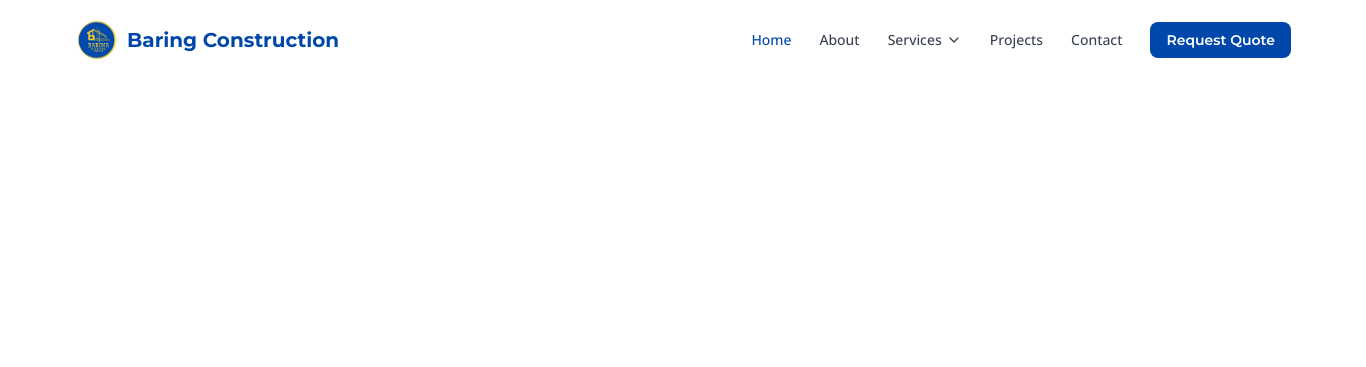
Test: Navbar › Dropdown › closes dropdown on outside click
Step 1. Click the button "Services" → [925, 40], box [876,22,974,58]
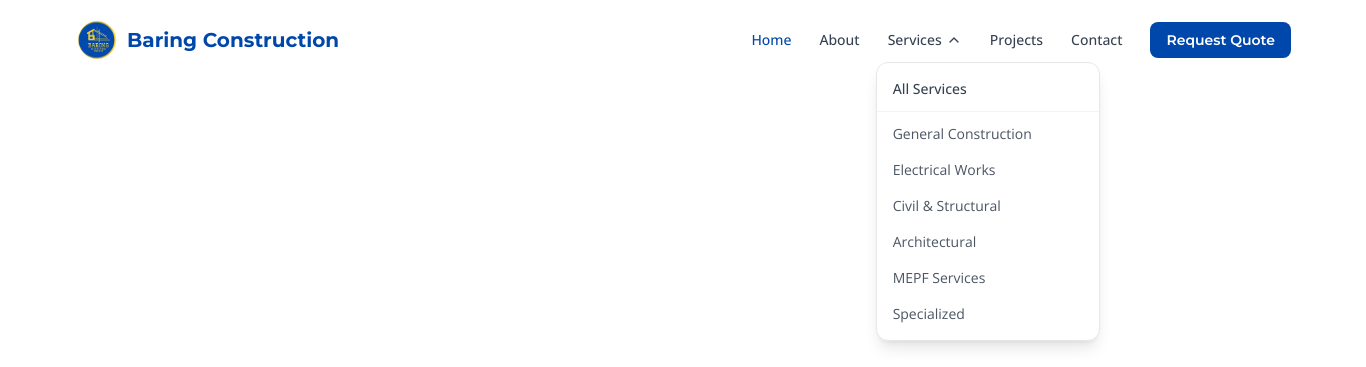
Check: the menu is shown, box [876,62,1100,341]
Step 2. Press the mouse on the element that starts with "Baring Construction" → [683, 40], box [0,0,1365,80]
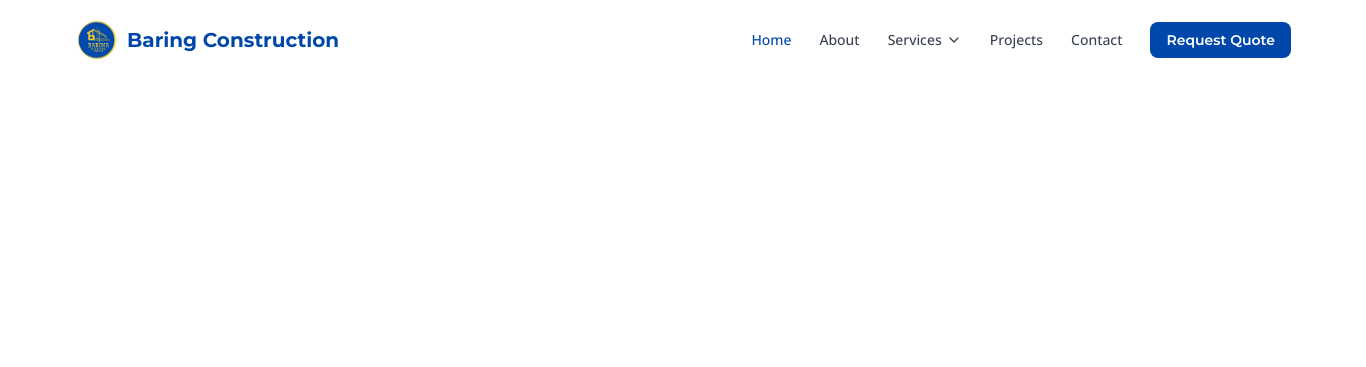
Check: the menu is gone
